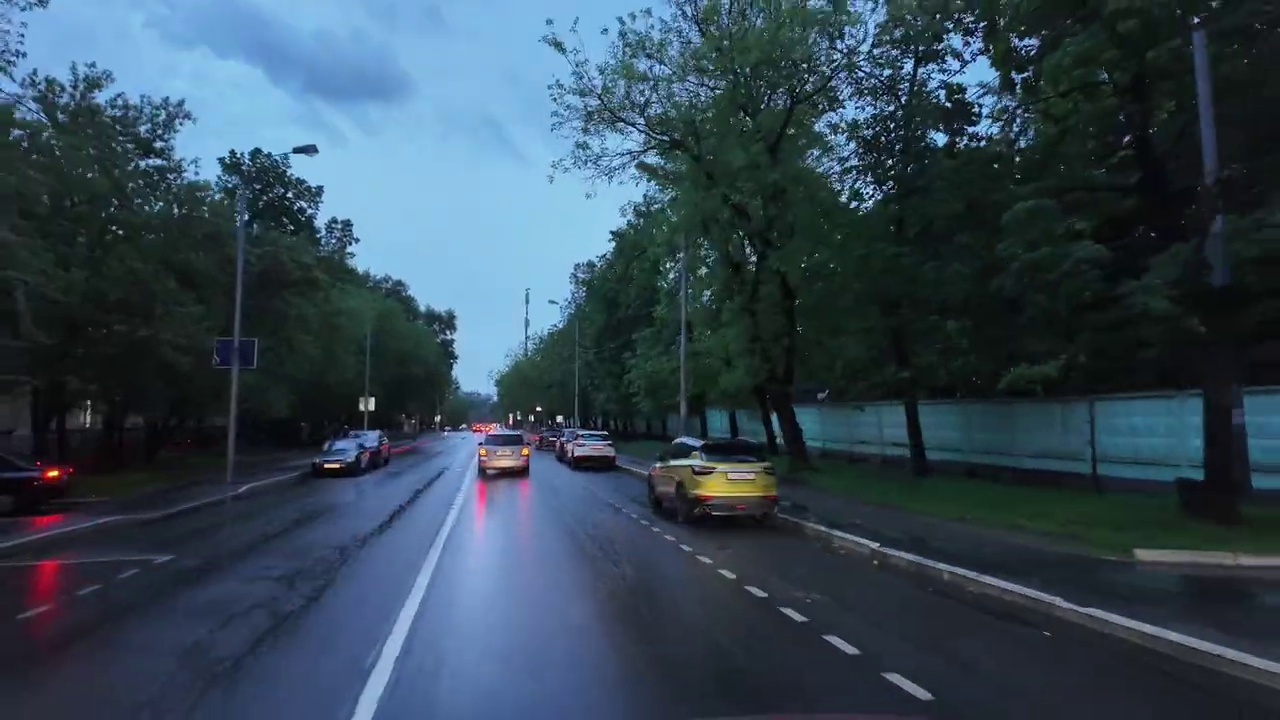apagada: (291, 135, 323, 163)
